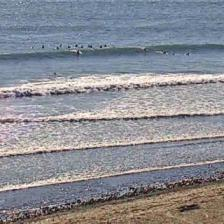surfer: (182, 52, 190, 56), (76, 50, 80, 55), (163, 52, 168, 55), (53, 72, 57, 75), (68, 45, 71, 49), (89, 45, 93, 48), (142, 48, 147, 50), (170, 53, 175, 55), (42, 45, 45, 48), (75, 44, 78, 47), (80, 45, 83, 48), (32, 46, 34, 49), (56, 46, 58, 49), (104, 44, 106, 47), (60, 43, 61, 47), (100, 46, 102, 48)
